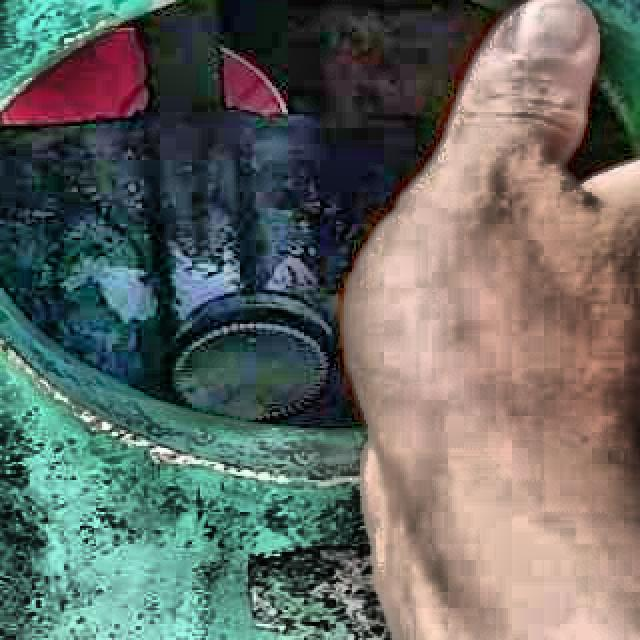glass: (171, 295, 331, 423)
